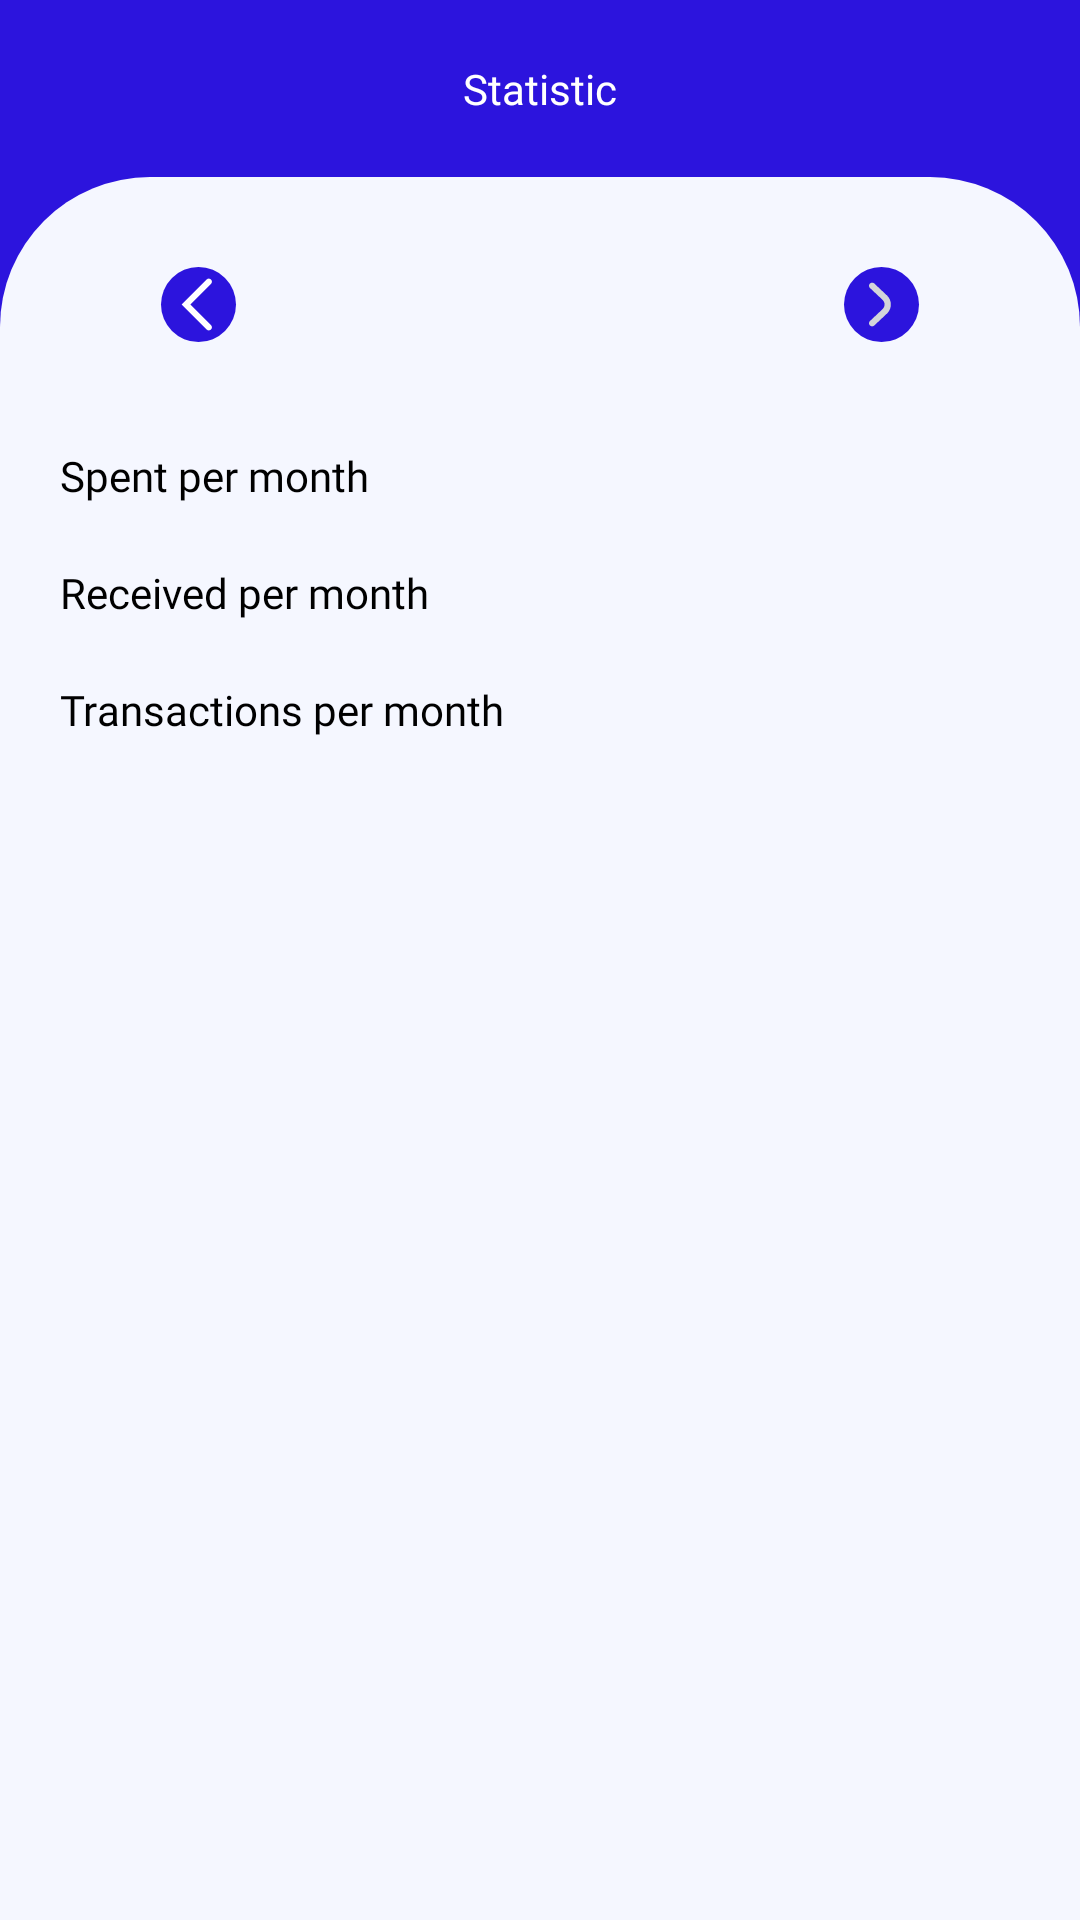

Where to tap for icons on this 1080*1920 app screen, as (x,y):
back: (198,304)
forward: (881,304)
